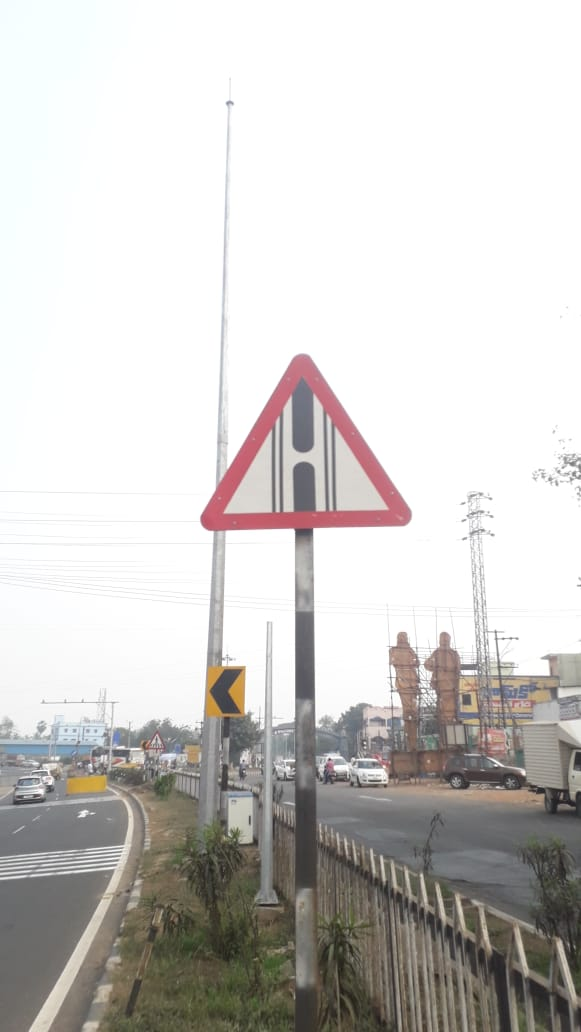highway go straight: (199, 340, 433, 558)
